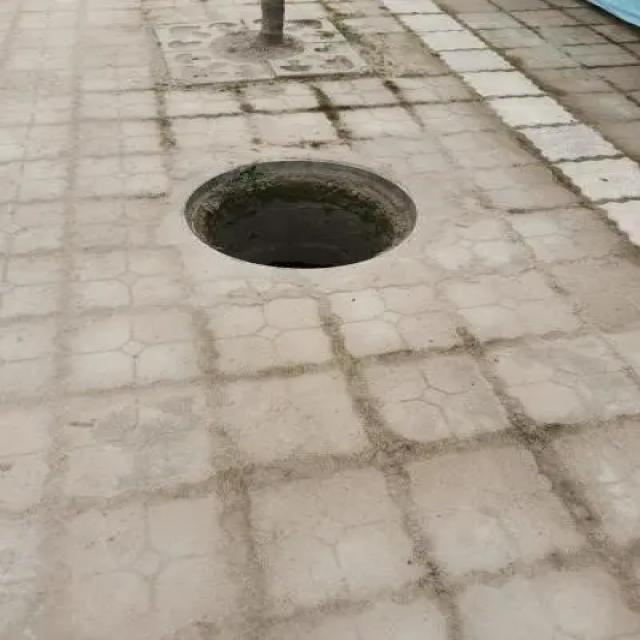manhole: (183, 158, 419, 271)
